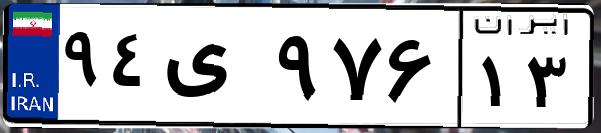1: (475, 38, 525, 113)
3: (525, 38, 570, 115)
4: (110, 28, 158, 98)
6: (385, 28, 445, 110)
7: (330, 28, 385, 110)
9: (270, 28, 330, 110), (57, 26, 110, 100)
ی: (158, 20, 270, 120)
